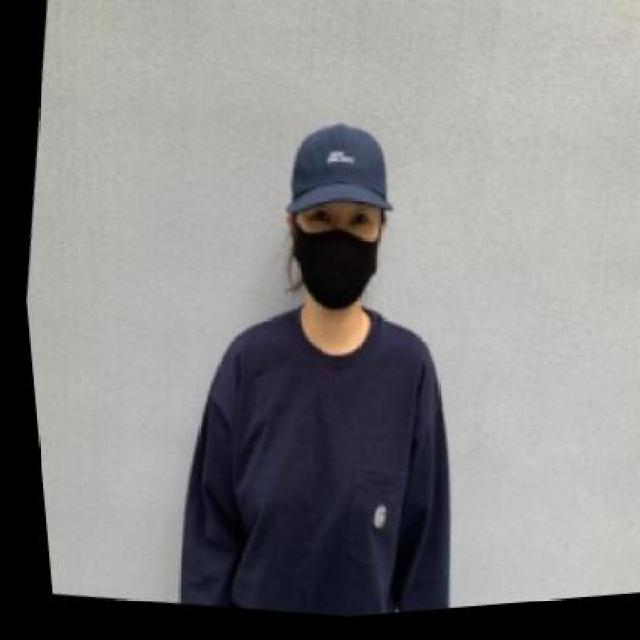hat: (273, 115, 404, 236)
